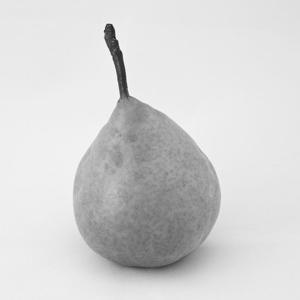fruit: (49, 61, 234, 269)
